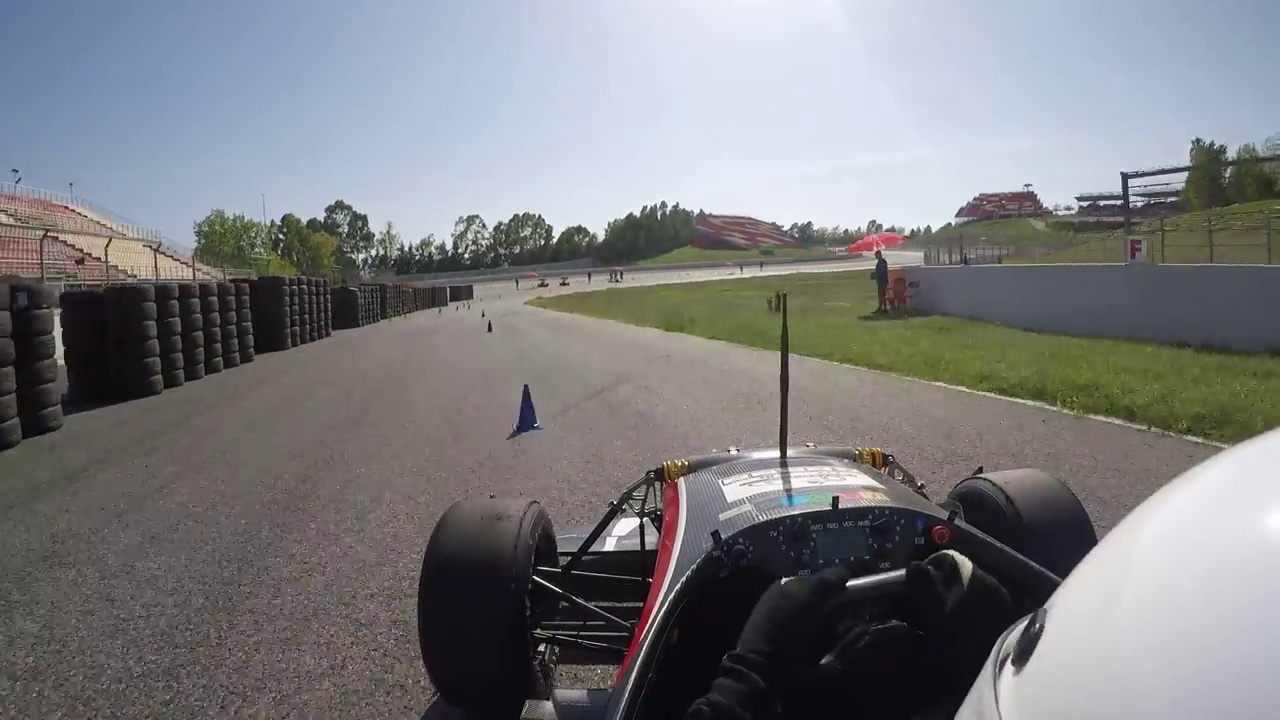Cone: (515, 381, 548, 434)
